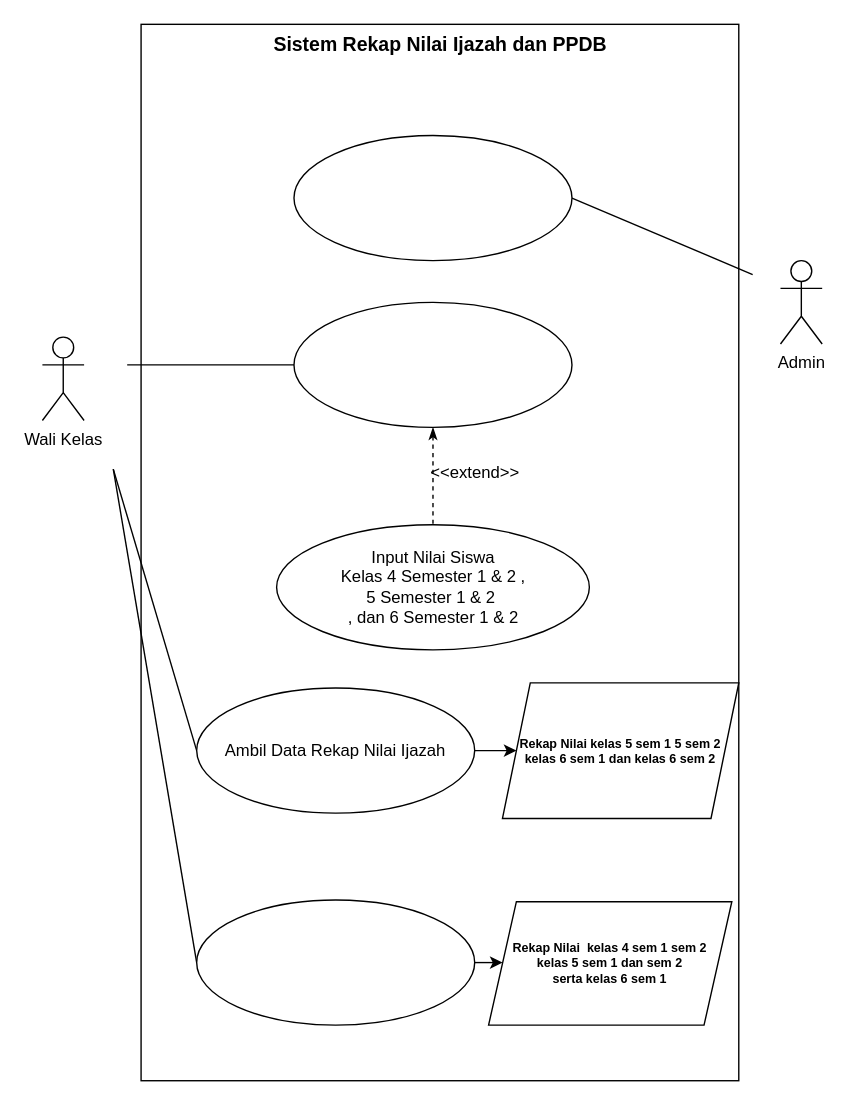
Image size: 848x1105. Some labels were removed from this diagram. The shapes that lost their labels are listed below. From the top down, each one's centre as x and y in pixels, then its label:
At (x=432, y=197): "Kelola Data Siswa".
At (x=432, y=364): "Input Nilai Siswa Kelas 4,5 , dan 6".
At (x=335, y=962): "Ambil Data Rekap Nilai PPDB".
